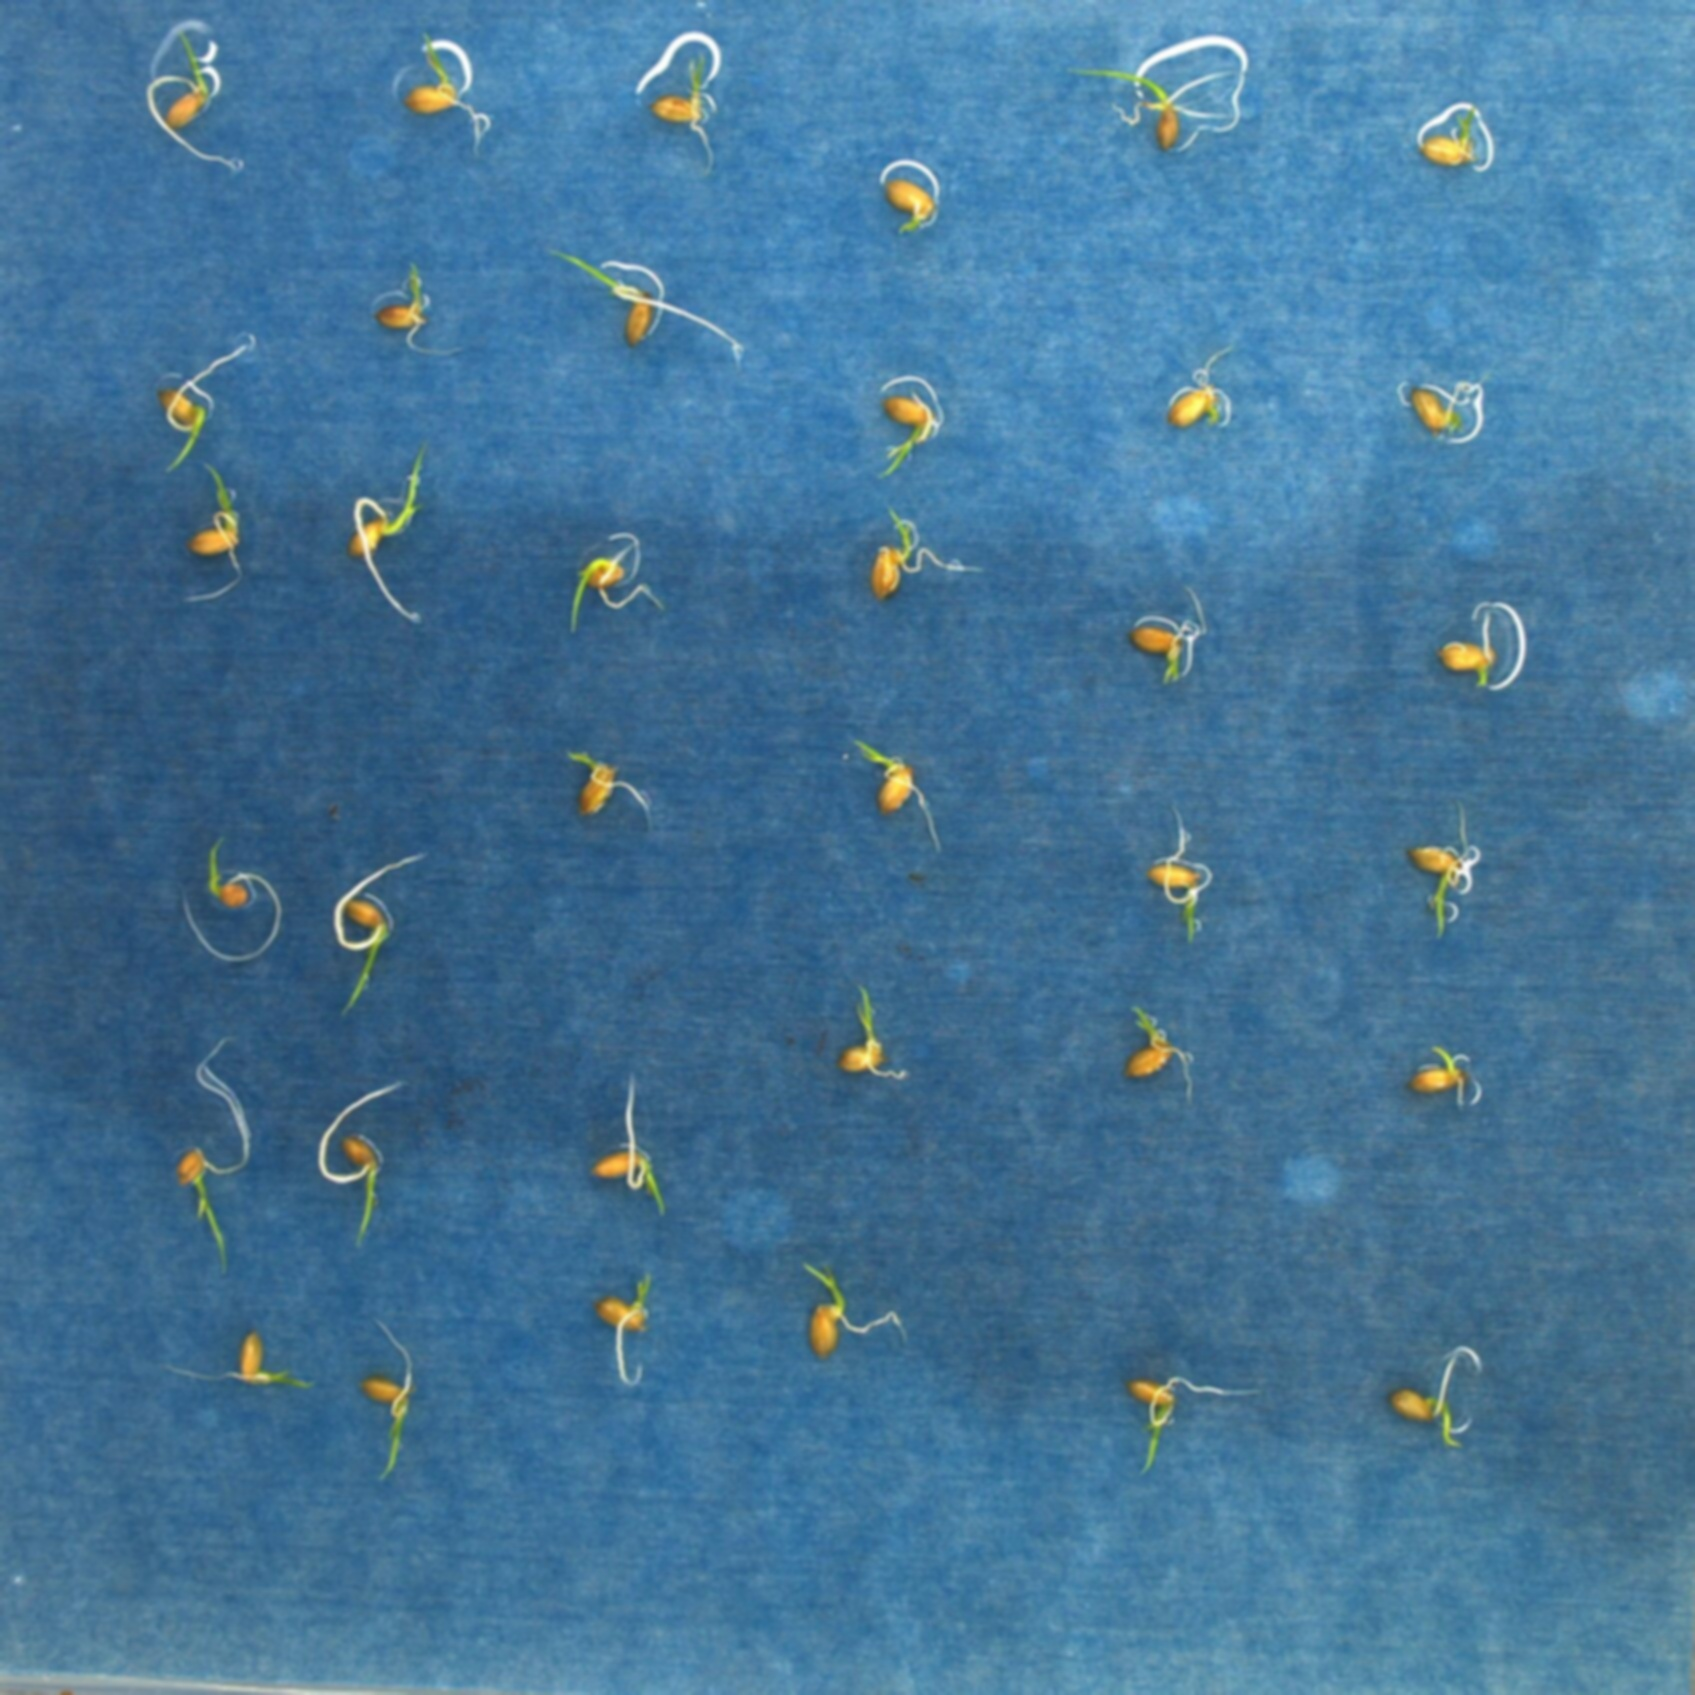not sprout: (1406, 385, 1471, 441), (1163, 380, 1232, 432)
sprout: (549, 247, 756, 365), (171, 1035, 255, 1270), (312, 1077, 408, 1250), (141, 26, 248, 179), (341, 447, 432, 627), (332, 847, 427, 1018), (1063, 61, 1245, 147), (585, 1073, 672, 1223), (1127, 1371, 1254, 1471), (160, 332, 247, 477), (798, 1260, 914, 1363), (397, 34, 497, 152), (865, 508, 983, 605), (354, 1312, 418, 1482), (854, 736, 945, 854), (160, 1333, 320, 1394), (1406, 799, 1475, 938), (560, 540, 663, 632), (650, 53, 726, 175), (371, 261, 463, 362), (189, 459, 244, 607), (1149, 806, 1208, 941), (1122, 1001, 1198, 1101), (567, 750, 657, 830), (838, 986, 910, 1085), (594, 1270, 653, 1388), (874, 390, 936, 487), (1388, 1385, 1468, 1456), (1128, 607, 1201, 685), (1436, 608, 1503, 691), (1409, 1043, 1471, 1108), (1419, 107, 1479, 171), (205, 834, 251, 914), (882, 175, 934, 237)
